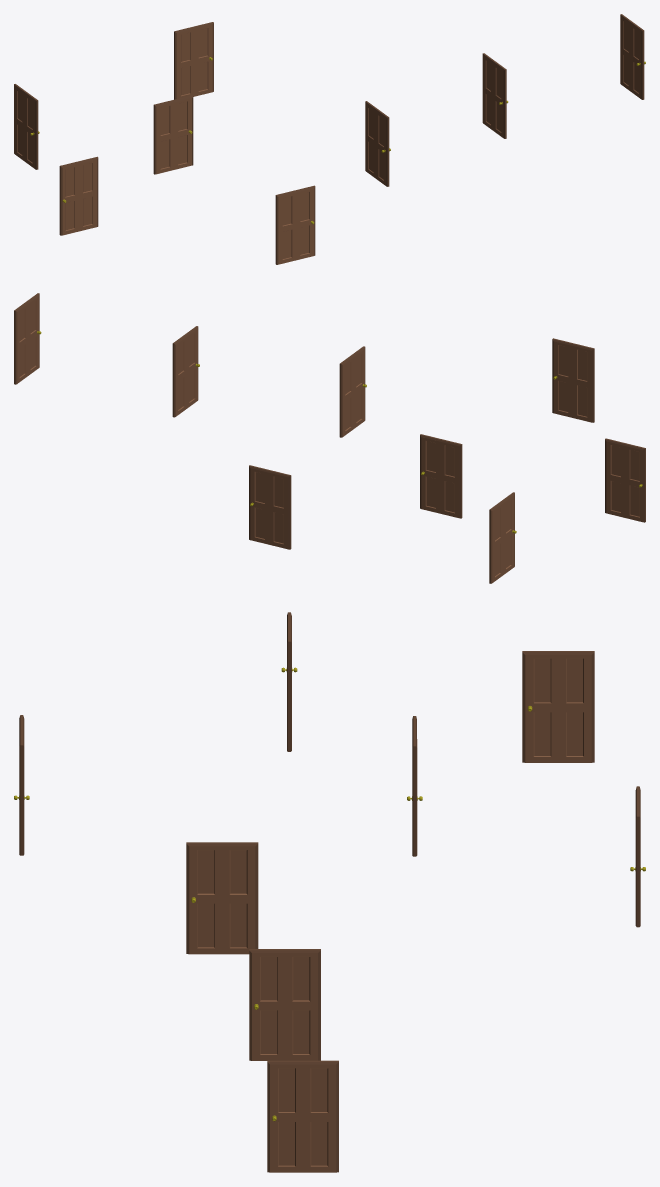
File: Puertas.fbx
The picture shows the model from 3 angles, top to bottom: view 1: azimuth 30°, elevation 25°; view 2: azimuth 150°, elevation 25°; view 3: azimuth 270°, elevation 25°; orthographic projection. The views are drawn at different scales.
Parts seen in each view (by area): view 1: Plane.033, Plane.031, Plane.012, Plane.021, Plane.027, Plane.019, Plane.023, Plane.026, Plane.032, Plane.005, Plane.020, Plane.030 (+4 smaller); view 2: Plane.012, Plane.031, Plane.033, Plane.021, Plane.019, Plane.027, Plane.023, Plane.026, Plane.032, Plane.005, Plane.030, Plane.020 (+4 smaller); view 3: Plane.027, Plane.023, Plane.019, Plane.026, Plane.022, Plane.018, Plane.029, Plane.024, Plane.030, Plane.032.
Part boxes in pixels (left/top/right/bottom): Plane.033: left=278, top=188, right=314, bottom=264; Plane.031: left=176, top=24, right=212, bottom=98; Plane.012: left=156, top=98, right=192, bottom=174; Plane.021: left=62, top=159, right=96, bottom=235; Plane.027: left=620, top=17, right=645, bottom=98; Plane.019: left=14, top=86, right=39, bottom=168; Plane.023: left=365, top=104, right=390, bottom=185; Plane.026: left=483, top=56, right=508, bottom=137; Plane.032: left=275, top=185, right=315, bottom=264; Plane.005: left=153, top=95, right=193, bottom=174; Plane.020: left=59, top=156, right=98, bottom=235; Plane.030: left=174, top=22, right=213, bottom=99; Plane.012: left=421, top=437, right=459, bottom=517; Plane.031: left=250, top=468, right=288, bottom=549; Plane.033: left=553, top=341, right=591, bottom=422; Plane.021: left=606, top=441, right=642, bottom=522; Plane.019: left=492, top=495, right=516, bottom=582; Plane.027: left=17, top=296, right=41, bottom=383; Plane.023: left=343, top=349, right=366, bottom=436; Plane.026: left=176, top=329, right=199, bottom=416; Plane.032: left=552, top=338, right=594, bottom=422; Plane.005: left=420, top=434, right=462, bottom=518; Plane.030: left=249, top=465, right=291, bottom=549; Plane.020: left=605, top=438, right=645, bottom=522; Plane.027: left=270, top=1064, right=336, bottom=1172; Plane.023: left=189, top=846, right=255, bottom=954; Plane.019: left=525, top=655, right=591, bottom=762; Plane.026: left=252, top=953, right=317, bottom=1060; Plane.022: left=186, top=842, right=258, bottom=954; Plane.018: left=522, top=651, right=594, bottom=762; Plane.029: left=267, top=1060, right=338, bottom=1172; Plane.024: left=249, top=949, right=320, bottom=1060; Plane.030: left=635, top=786, right=640, bottom=927; Plane.032: left=19, top=715, right=24, bottom=855.
Size of the model in its own units: 17791 by 2025 by 10511.
